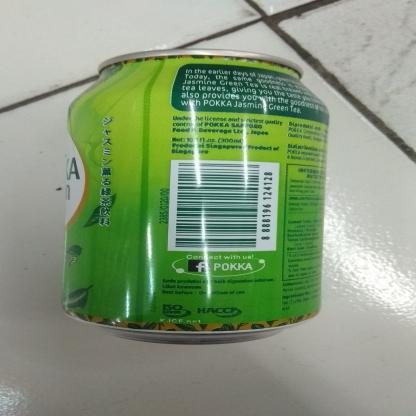can: (59, 45, 334, 348)
